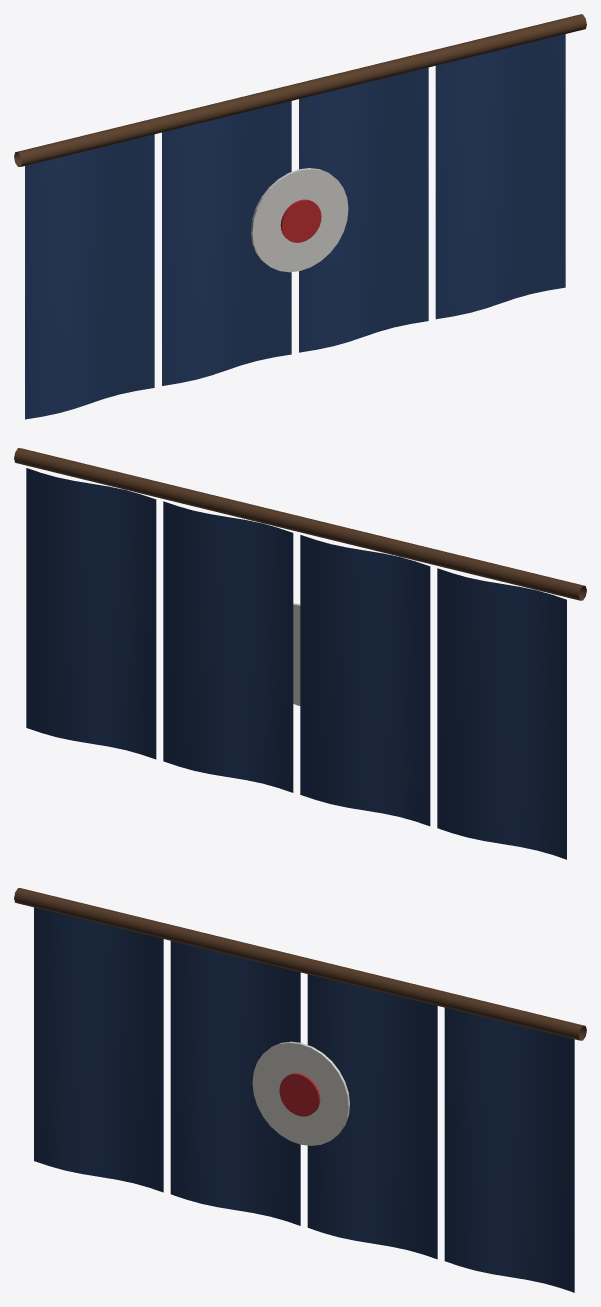
The model's file is furn_noren.glb.
3 views of the same model, one above another, from view 1: azimuth 30°, elevation 25°; view 2: azimuth 150°, elevation 25°; view 3: azimuth 330°, elevation 25° (orthographic).
Visible parts, largest first — view 1: furn_noren_main; view 2: furn_noren_main; view 3: furn_noren_main.
Boxes of the visible parts, x1=… form: furn_noren_main: x1=14, y1=14, x2=586, y2=419; furn_noren_main: x1=14, y1=448, x2=586, y2=859; furn_noren_main: x1=14, y1=888, x2=586, y2=1292.
Size of the model in its own units: 2 by 0.925 by 0.065.
